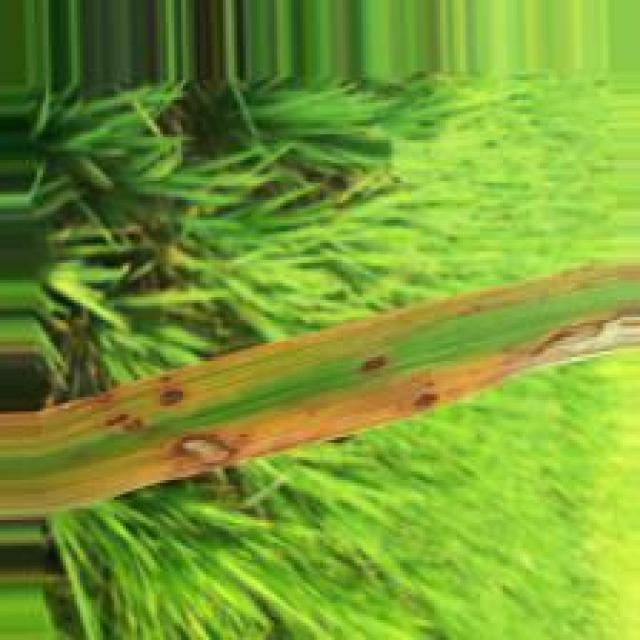Leaf_Blast: (78, 282, 640, 512), (0, 260, 640, 457)
